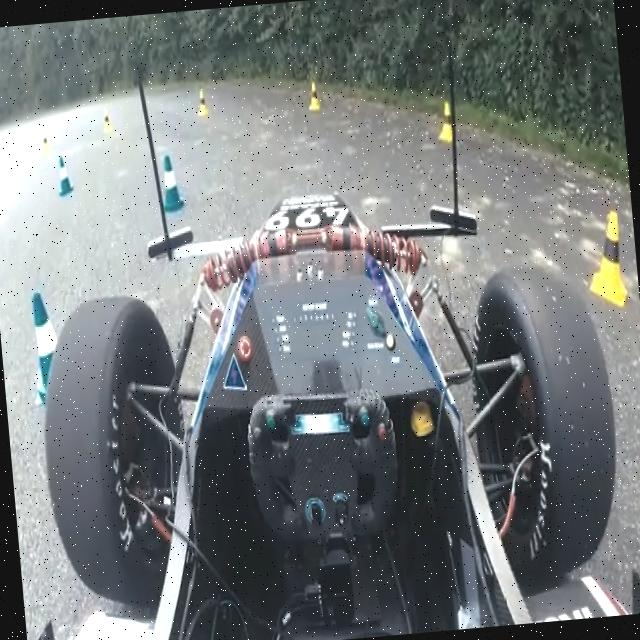blue_cone: (21, 284, 74, 406), (156, 150, 188, 220), (53, 151, 77, 204)
yellow_cone: (580, 186, 634, 322), (437, 95, 460, 152), (192, 84, 212, 123), (306, 76, 323, 118), (100, 104, 115, 137)
